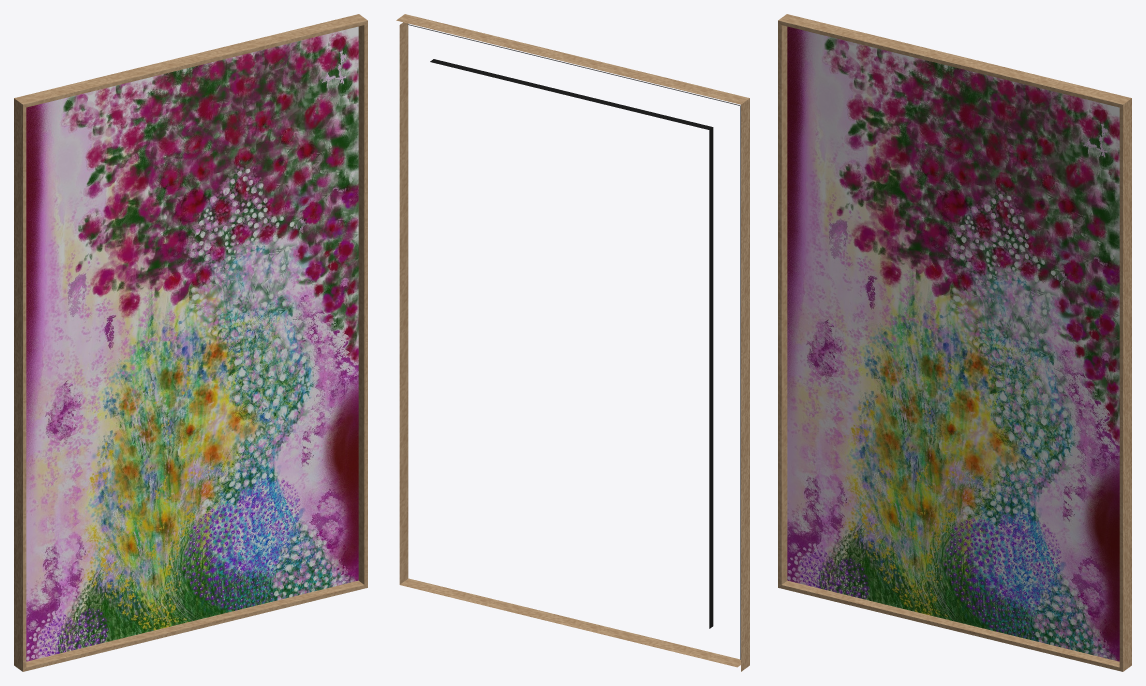
Rendered from os005_grand_caisse-chene.glb.
3 renders of one model, left to right at view 1: azimuth 30°, elevation 25°; view 2: azimuth 150°, elevation 25°; view 3: azimuth 330°, elevation 25°, orthographic.
Parts seen in each view (by area): view 1: os005_grand_caisse-chene; view 2: os005_grand_caisse-chene; view 3: os005_grand_caisse-chene.
Part boxes in pixels (<box>): os005_grand_caisse-chene: <box>14,14,367,671</box>; os005_grand_caisse-chene: <box>396,14,749,671</box>; os005_grand_caisse-chene: <box>778,14,1131,671</box>.
Size of the model in its own units: 0.7817 by 1.23 by 0.035.
4 materials, 2 textured.
